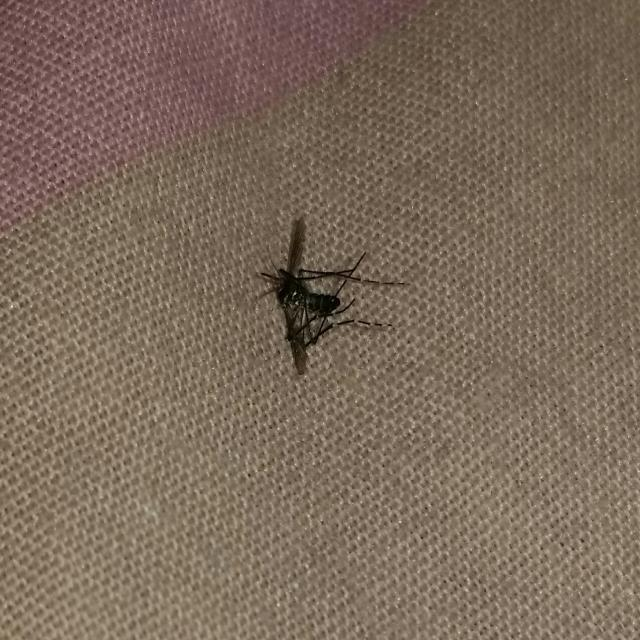albopictus: (247, 210, 413, 384)
